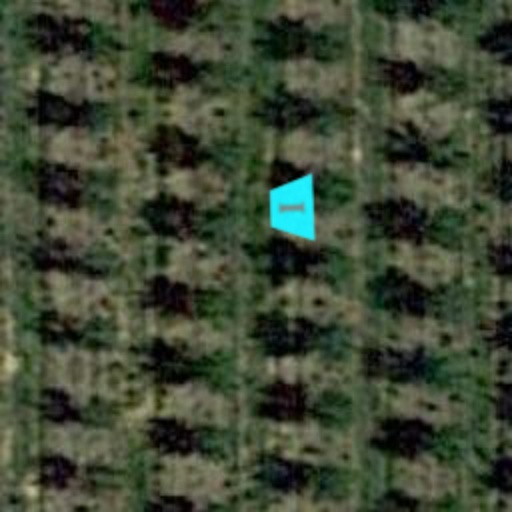trapezoid: (256, 172, 328, 244)
